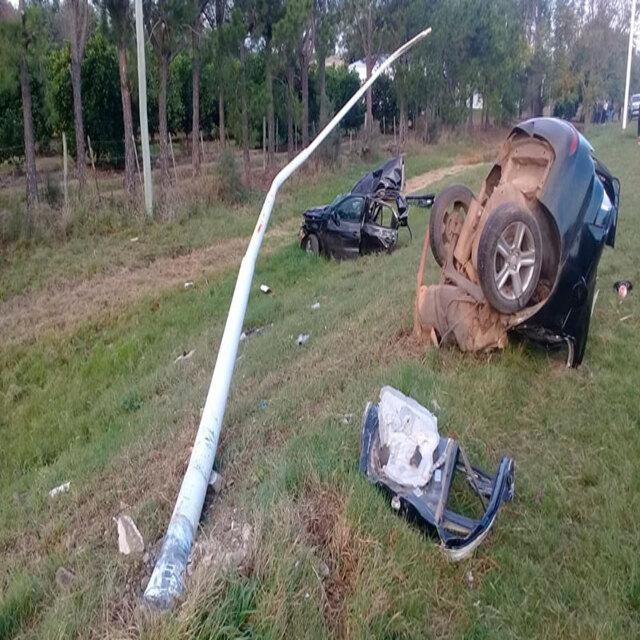Inclined Pole: (141, 22, 438, 609)
